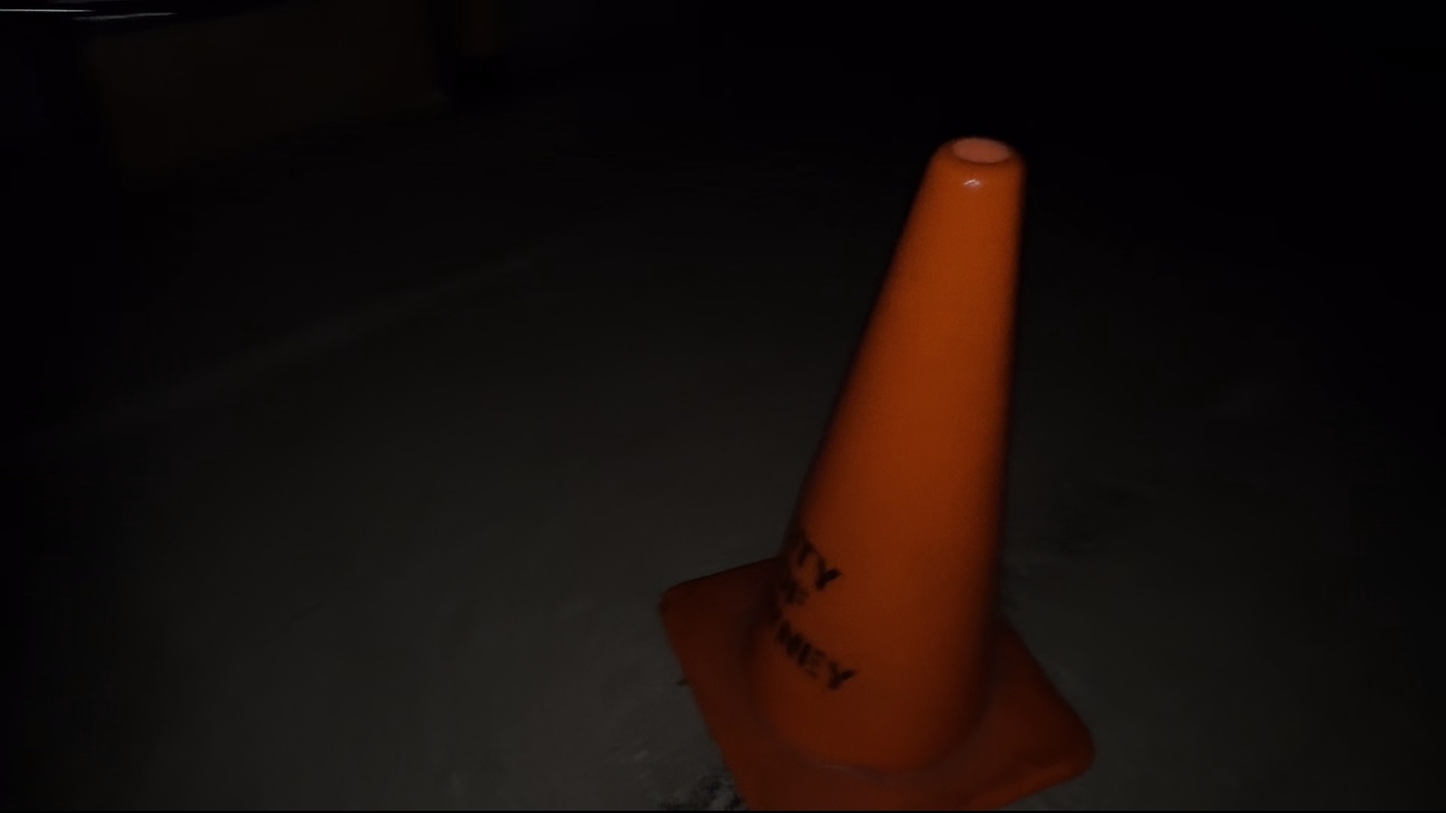traffic_cone: (656, 134, 1097, 810)
